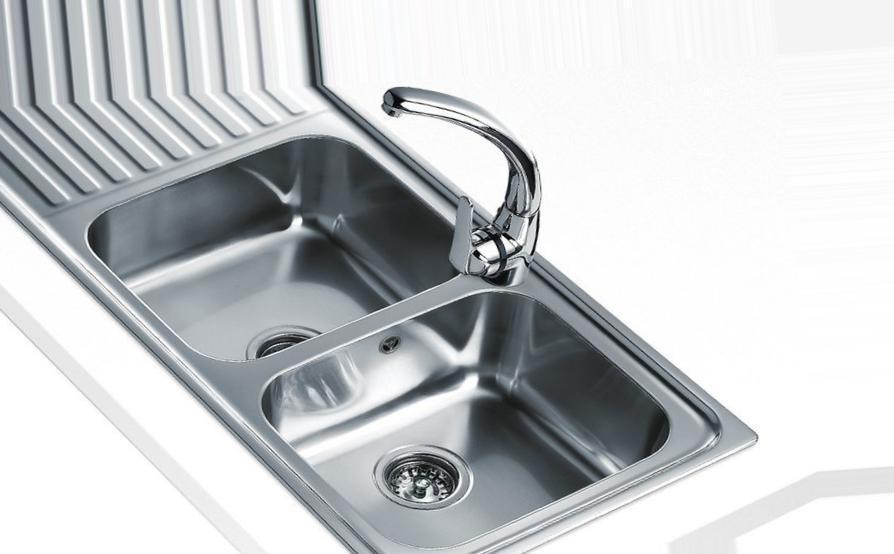Lavaplatos: (19, 104, 784, 544)
